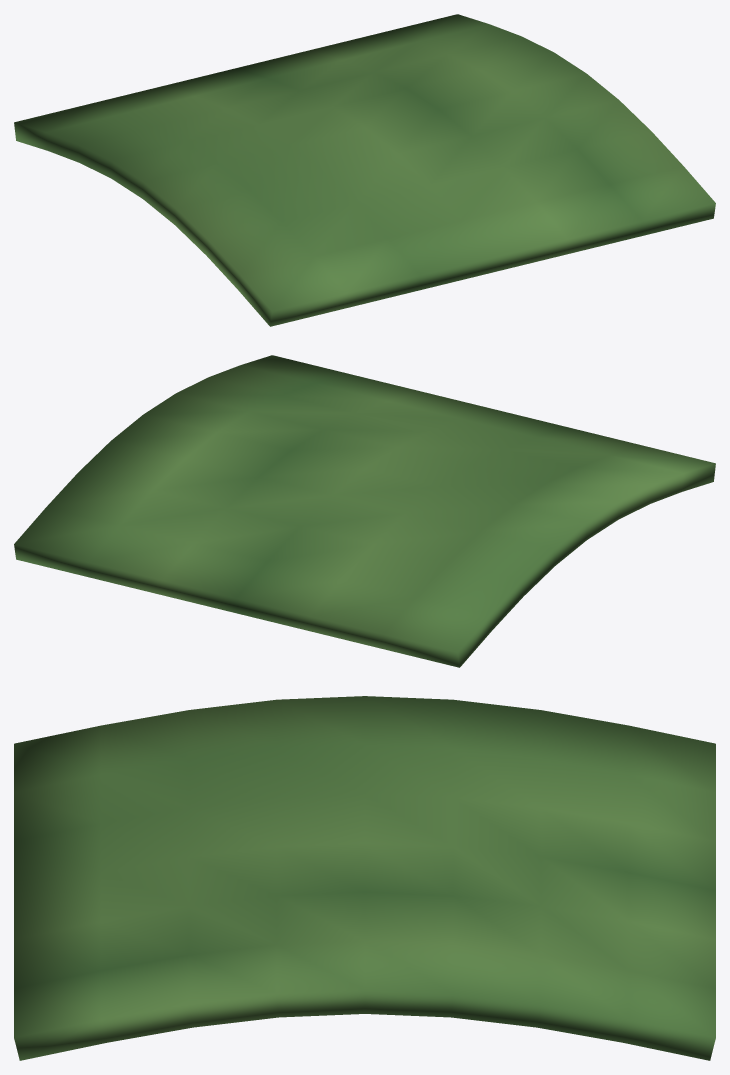
File: hill_crest_4m.glb
The picture shows the model from 3 angles, top to bottom: view 1: azimuth 30°, elevation 25°; view 2: azimuth 150°, elevation 25°; view 3: azimuth 270°, elevation 25°; orthographic projection. The views are drawn at different scales.
Parts seen in each view (by area): view 1: hill_crest_4m; view 2: hill_crest_4m; view 3: hill_crest_4m.
Boxes of the visible parts, box(x1,y1,x2,y2) form: hill_crest_4m: box(14, 14, 715, 326); hill_crest_4m: box(14, 355, 715, 667); hill_crest_4m: box(14, 696, 715, 1060).
Size of the model in its own units: 4 by 0.4481 by 4.03.
